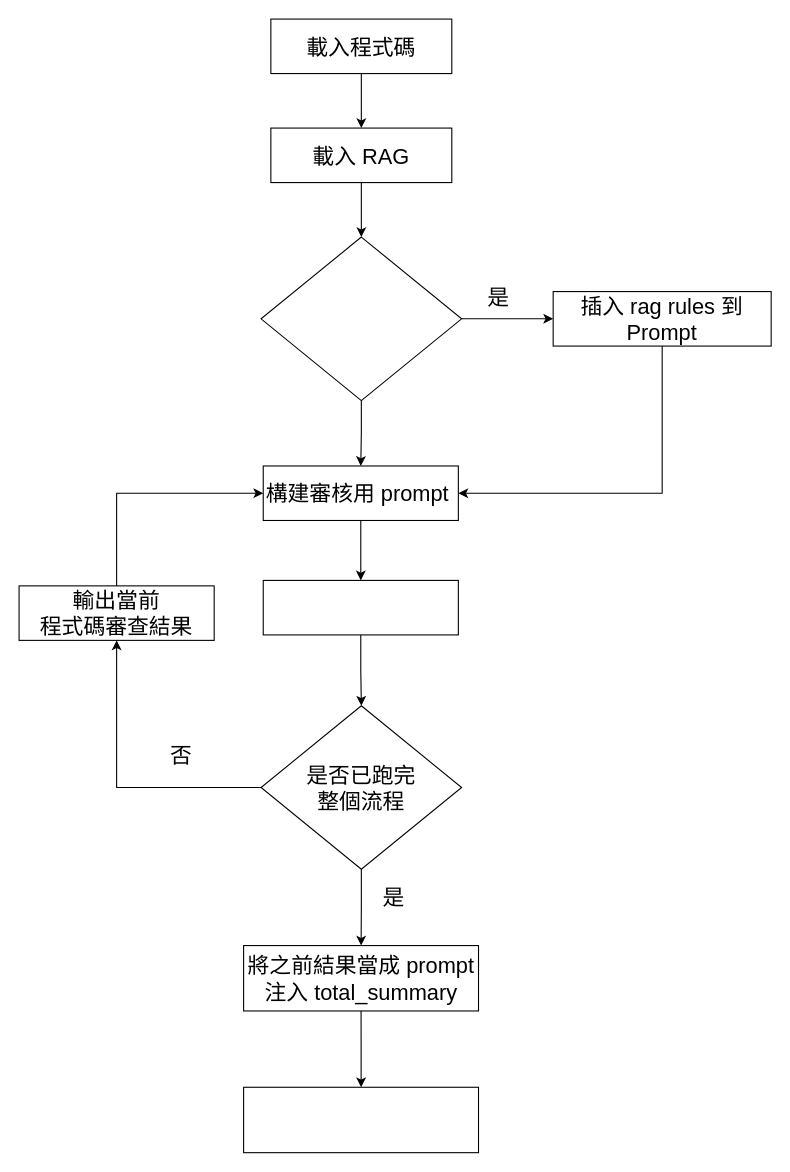
Some shapes in this 790 by 1172 pixel diagram are drawn without their labels. The centre of each missing label's shape, as x and y in pixels:
依據 Prompt 進行程式碼審查: the point at 360,607
是否有相關 RAG 規則: the point at 361,318
輸出 total summary: the point at 361,1119
